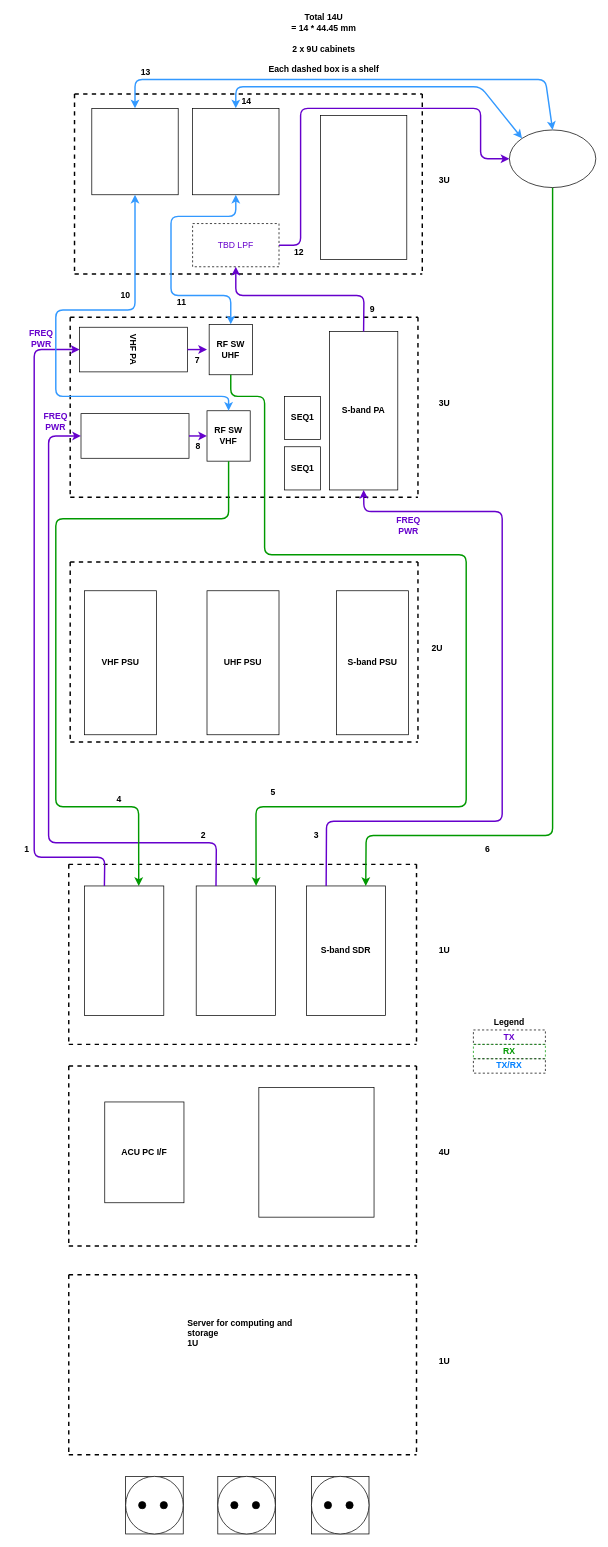
The diagram is 608 pixels wide and 1547 high, and some of its shapes have lost their labels. The shapes that lost their labels are listed below. From the top down, each one's centre as x and y in pixels, then its label:
point 134,151: VHF BIAS-T
point 235,151: UHF BIAS-T
point 552,158: ROOF
point 363,187: SAGA 13.8VDC PSU
point 134,435: UHF PA
point 124,950: VHF SDR
point 235,950: UHF SDR
point 316,1152: ACU
